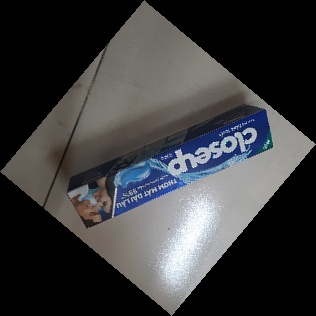CloseUp Tuyet: (67, 103, 274, 232)
